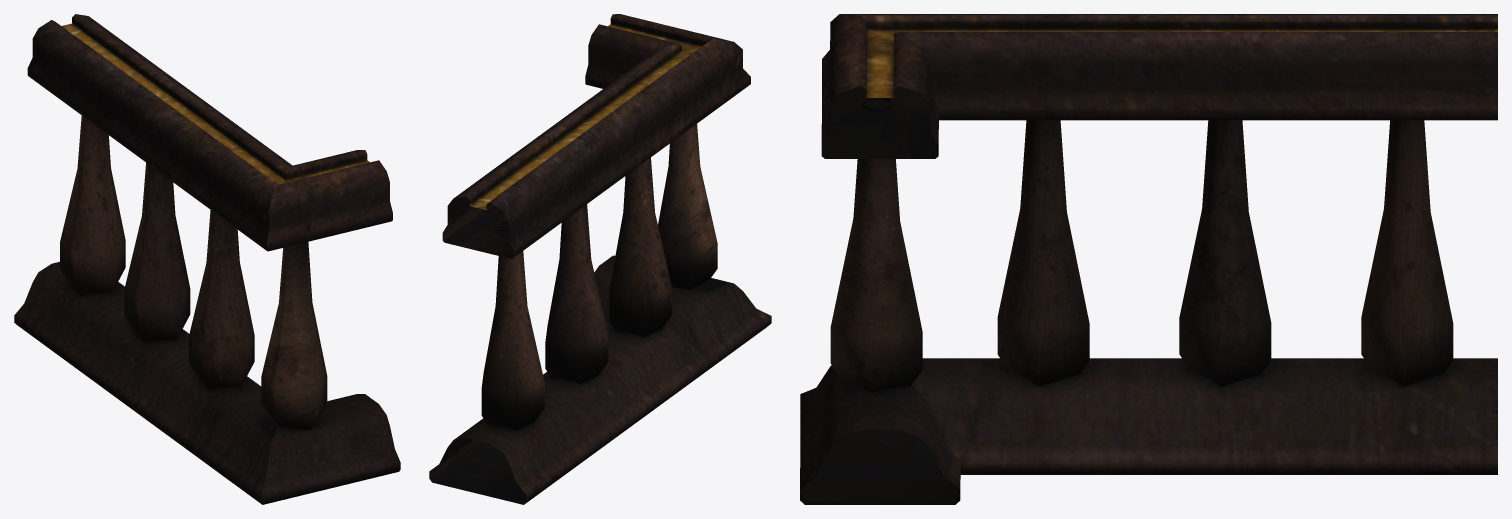
Rendered from railing_corner.DAE.
3 views of the same model, side by side, from view 1: azimuth 30°, elevation 25°; view 2: azimuth 150°, elevation 25°; view 3: azimuth 270°, elevation 25° (orthographic). The views are drawn at different scales.
Parts seen in each view (by area): view 1: Object008; view 2: Object008; view 3: Object008.
Part boxes in pixels (left/top/right/bottom): Object008: left=14, top=14, right=400, bottom=504; Object008: left=429, top=14, right=771, bottom=504; Object008: left=800, top=14, right=1497, bottom=504.
Size of the model in its own units: 0.6233 by 1.27 by 1.92.
